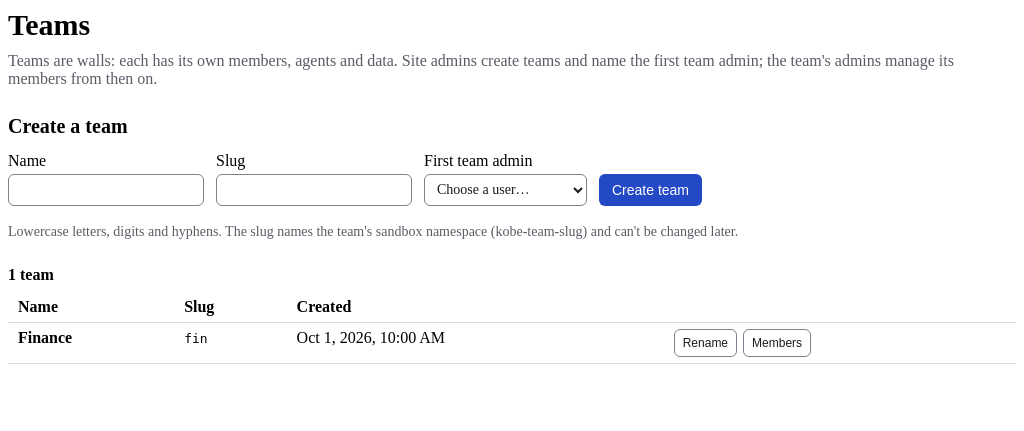
Teams › renames a team
Click the button named "Rename Finance" at (705, 342), box [674, 328, 737, 356]
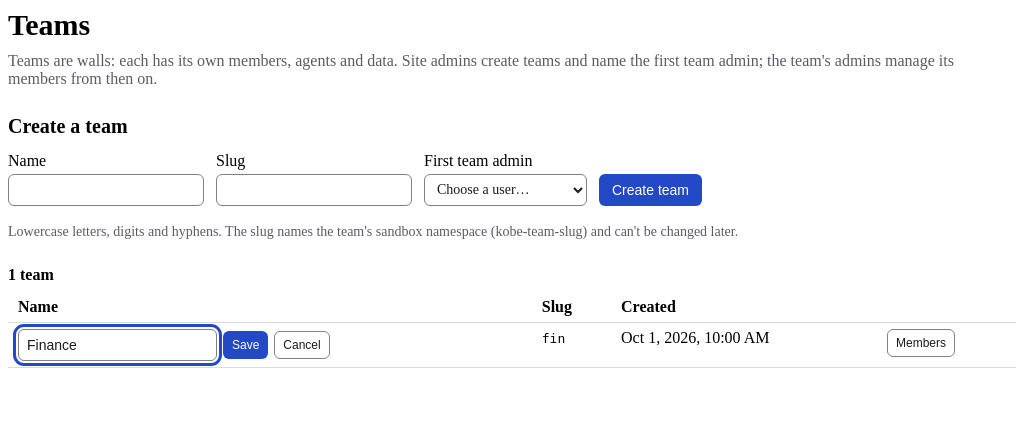
Replace the text in the field named "New name for Finance" with "Finance & Ops" at (118, 344), box [18, 328, 217, 360]
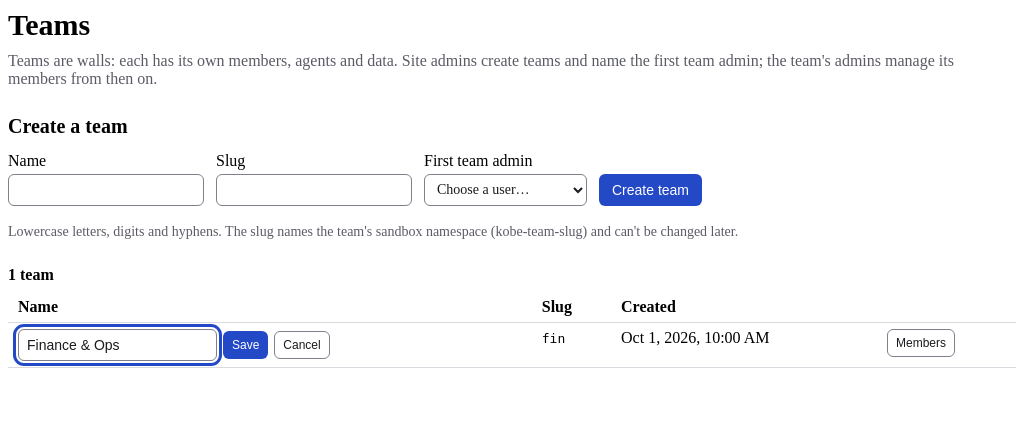
Click the button "Save" at (246, 344), box [223, 330, 268, 358]
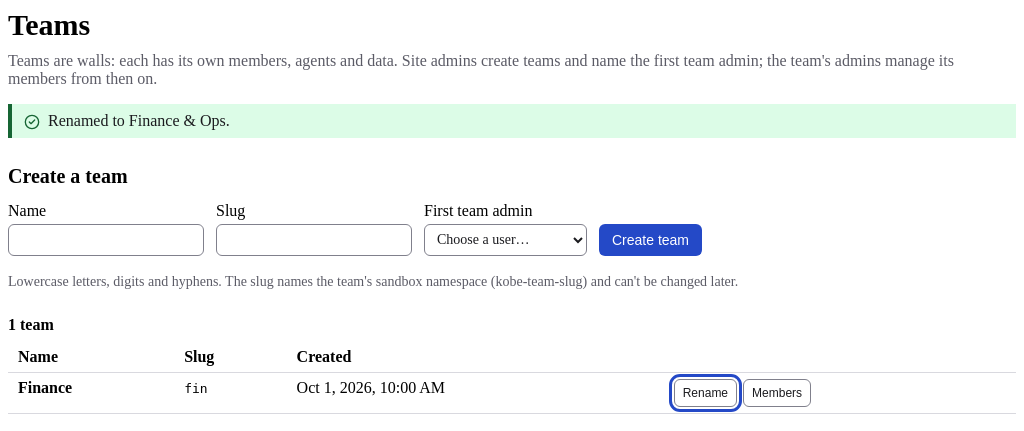
Check: the text "Renamed to Finance & Ops." is shown, box [48, 112, 230, 128]
